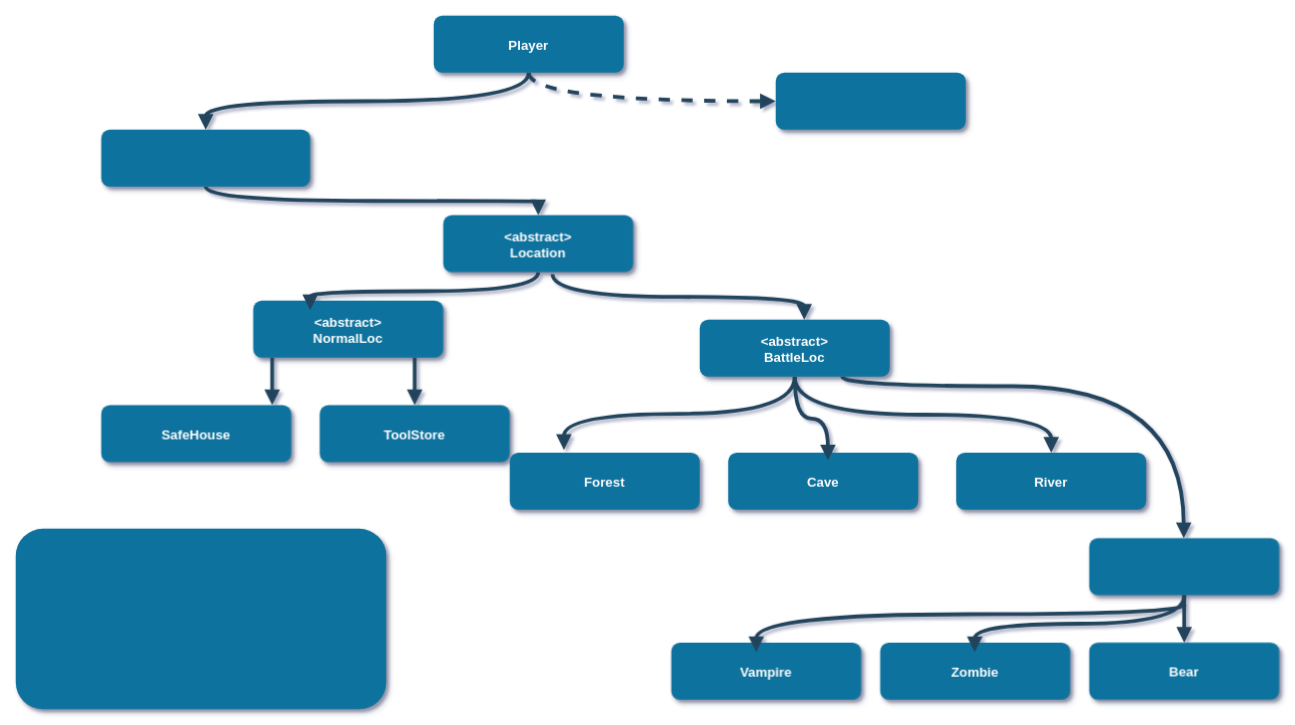
Image size: 1295x725. Some labels were removed from this diagram. The shapes that lost their labels are listed below. From the top down, each one's centre as x and y in pixels, then its label:
the point at 871,102: Inventory
the point at 206,159: Game
the point at 1184,567: Obstacle
the point at 201,619: Adventure Game
